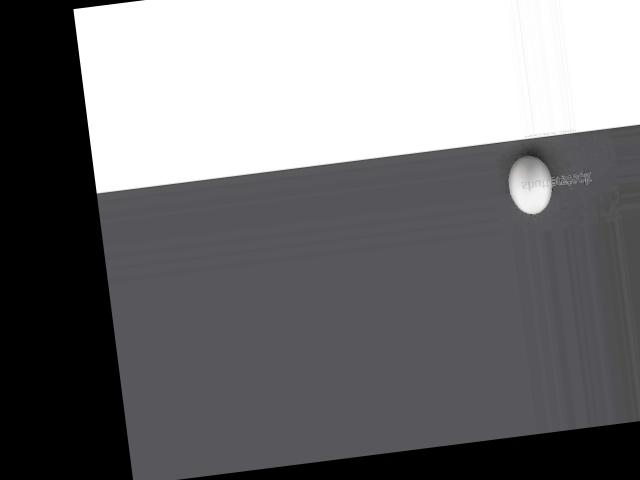egg: (505, 153, 555, 217)
